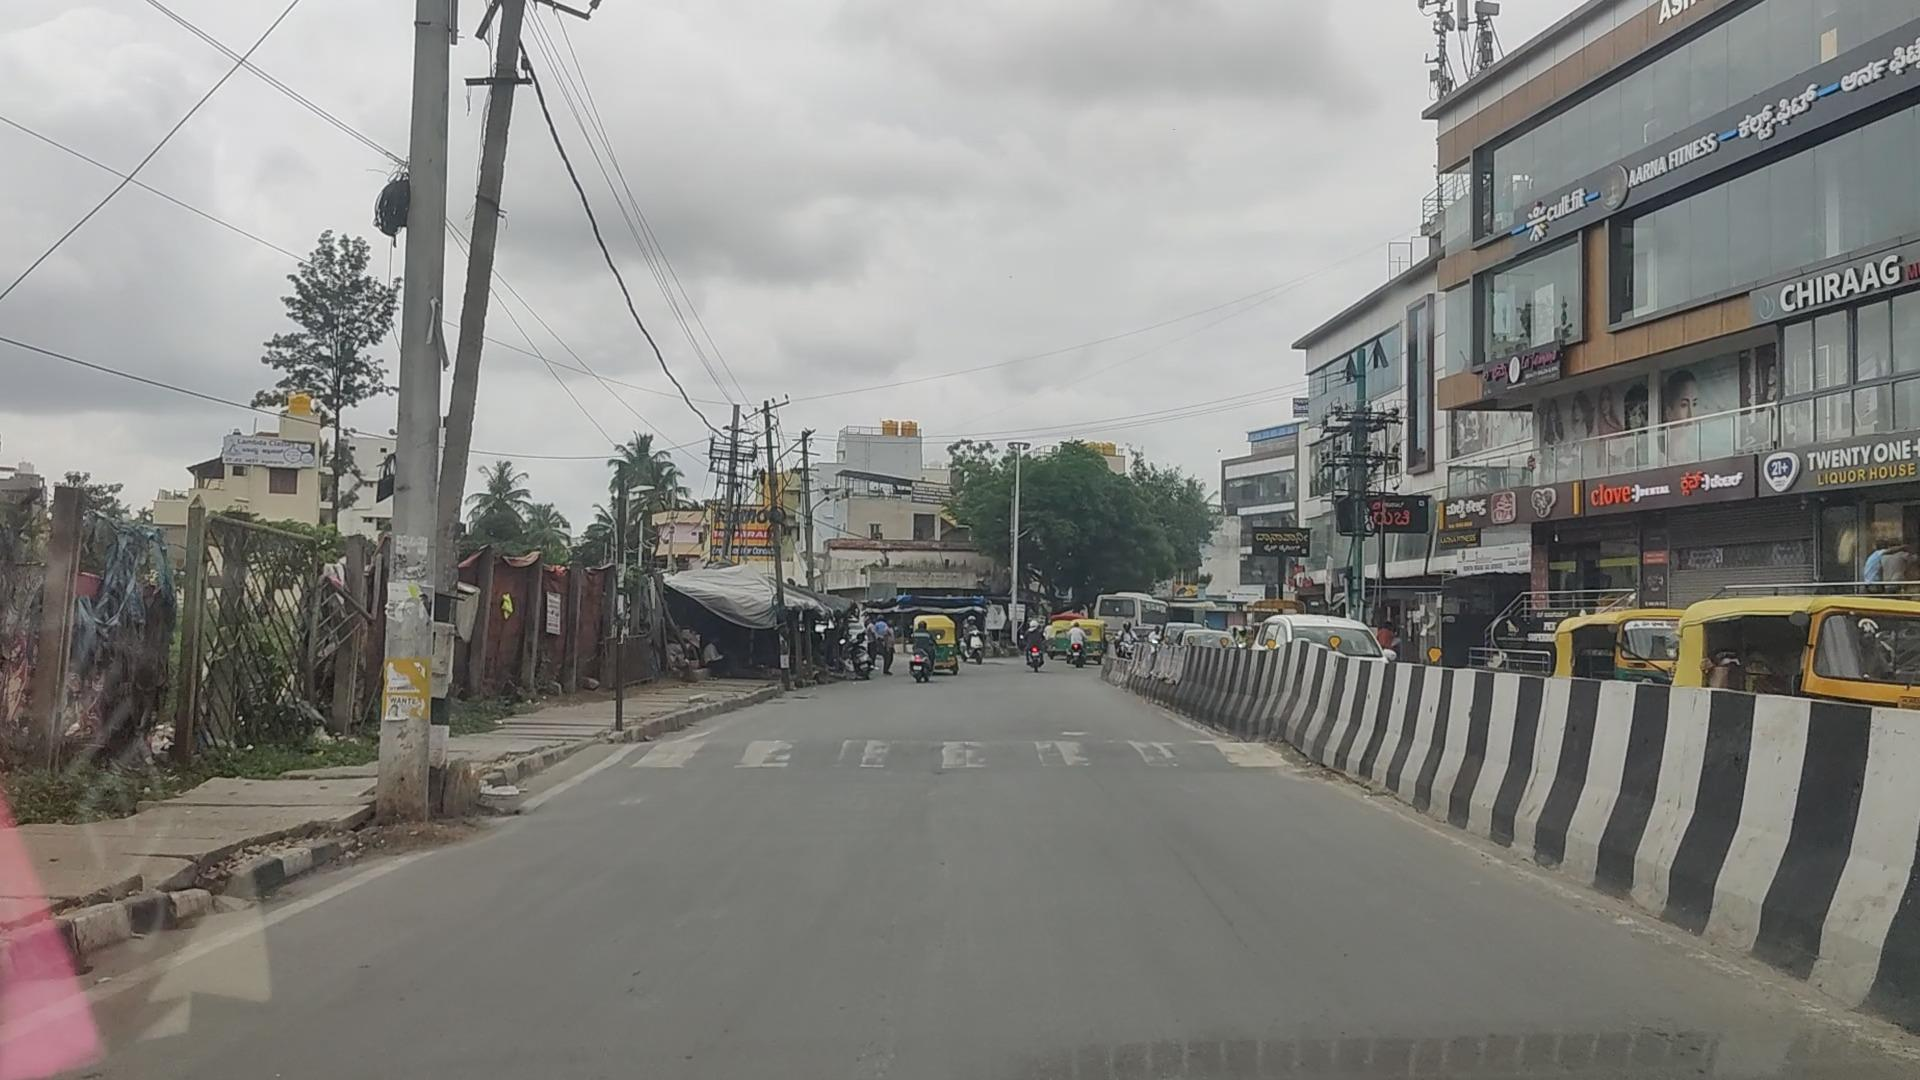SpeedBump: (600, 732, 1295, 783)
